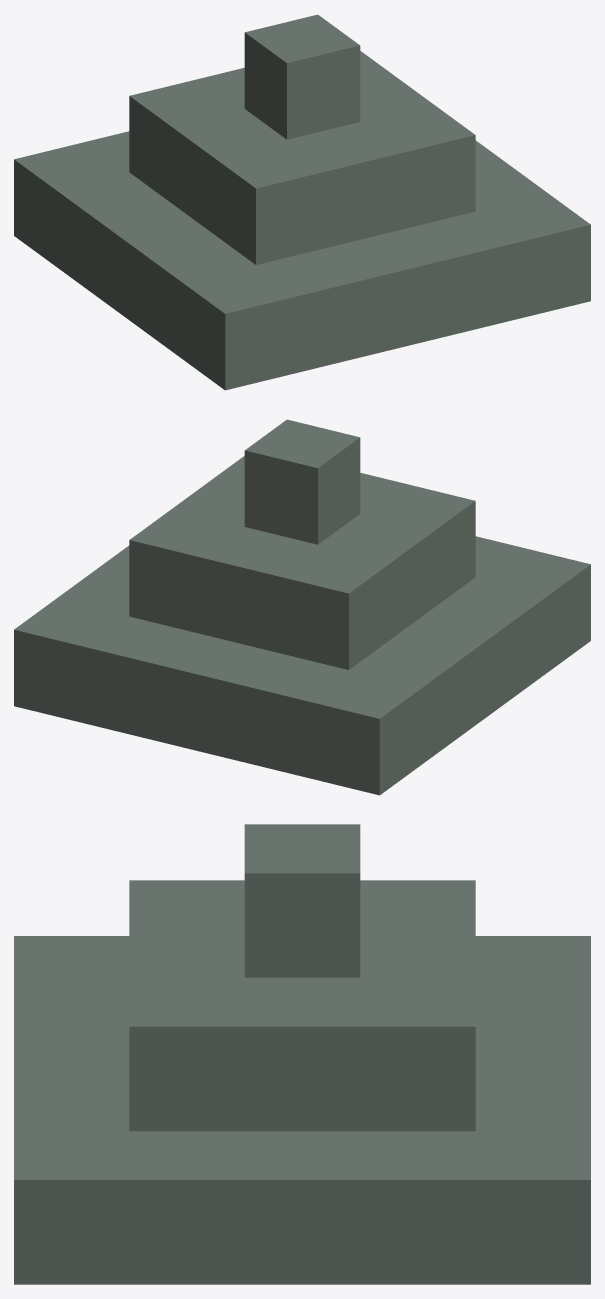
File: Roca2.obj
3 renders of one model, top to bottom at view 1: azimuth 30°, elevation 25°; view 2: azimuth 150°, elevation 25°; view 3: azimuth 270°, elevation 25°, orthographic. The views are drawn at different scales.
Visible parts, largest first — view 1: Element #1, Element #2, Element #3; view 2: Element #1, Element #2, Element #3; view 3: Element #1, Element #2, Element #3.
Boxes of the visible parts, x1=… form: Element #1: x1=14, y1=131, x2=590, y2=390; Element #2: x1=129, y1=51, x2=475, y2=264; Element #3: x1=244, y1=14, x2=360, y2=139; Element #1: x1=14, y1=536, x2=590, y2=795; Element #2: x1=129, y1=456, x2=475, y2=669; Element #3: x1=244, y1=419, x2=360, y2=544; Element #1: x1=14, y1=936, x2=590, y2=1284; Element #2: x1=129, y1=880, x2=475, y2=1131; Element #3: x1=244, y1=824, x2=360, y2=977.
Size of the model in its own units: 0.8 by 0.48 by 0.8.
Materials: 1 (1 with a texture image).
